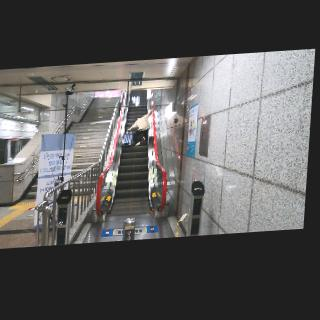anomaly: (124, 108, 154, 148)
